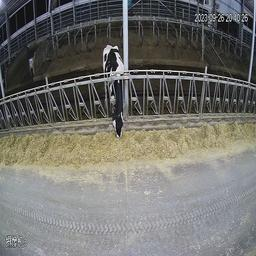cow: (100, 40, 128, 138)
